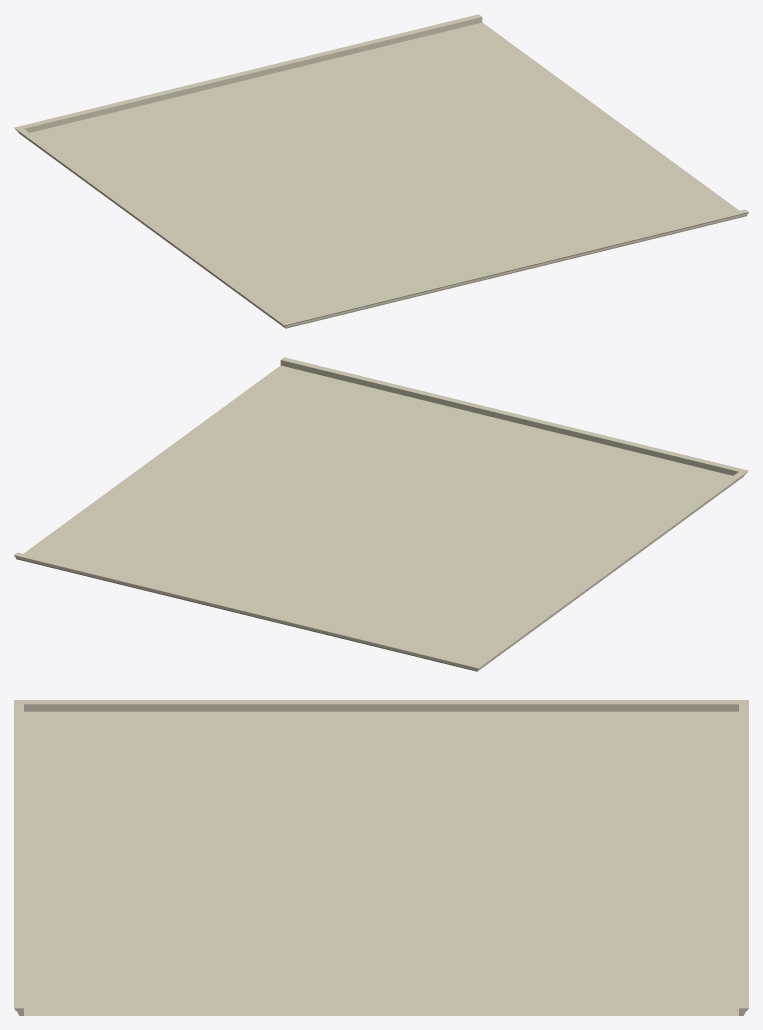
The model's file is BuildingBig4_4.fbx.
The picture shows the model from 3 angles, top to bottom: view 1: azimuth 30°, elevation 25°; view 2: azimuth 150°, elevation 25°; view 3: azimuth 270°, elevation 25°; orthographic projection. The views are drawn at different scales.
Parts seen in each view (by area): view 1: BuildingBig4_4; view 2: BuildingBig4_4; view 3: BuildingBig4_4.
Part boxes in pixels (x1,y1,x2,y2): BuildingBig4_4: (14,14,748,328); BuildingBig4_4: (14,357,748,671); BuildingBig4_4: (14,700,748,1015).
Bounding box in the file's own units: 6124 × 69.12 × 6168.
